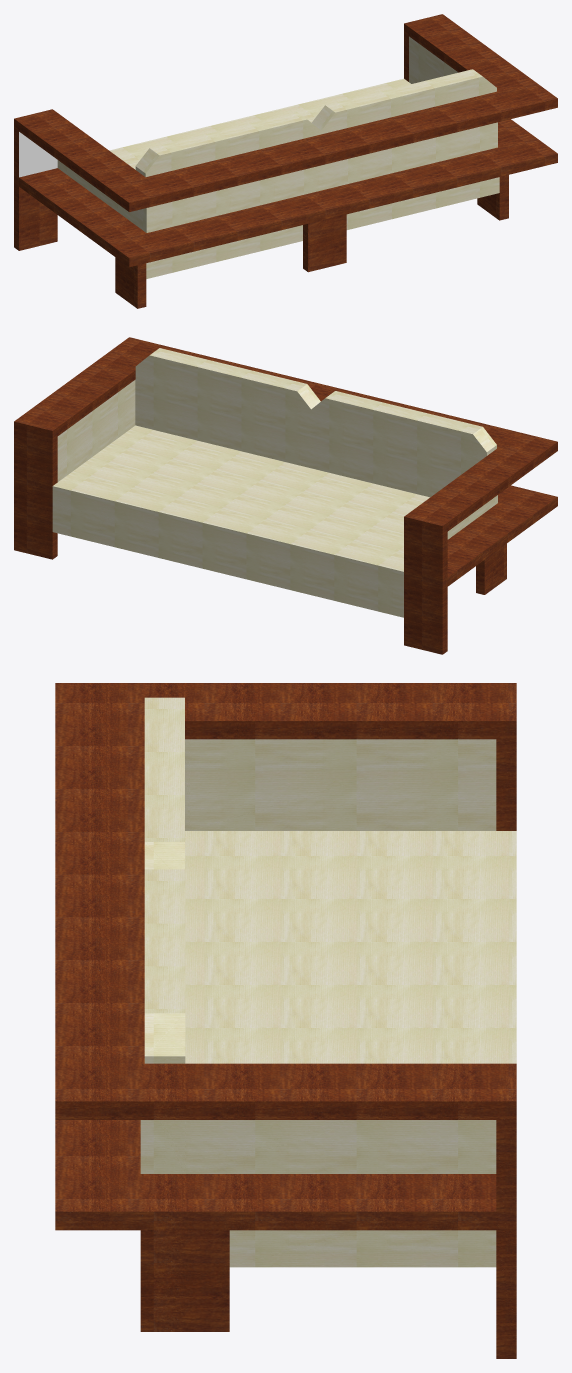
The model's file is sillon.obj.
The picture shows the model from 3 angles, top to bottom: view 1: azimuth 30°, elevation 25°; view 2: azimuth 150°, elevation 25°; view 3: azimuth 270°, elevation 25°; orthographic projection. The views are drawn at different scales.
Visible parts, largest first — view 1: Mesh1 Model; view 2: Mesh1 Model; view 3: Mesh1 Model.
Part boxes in pixels (box(x1,y1,x2,y2)): Mesh1 Model: box(14, 14, 557, 308); Mesh1 Model: box(14, 337, 557, 654); Mesh1 Model: box(55, 683, 516, 1358).
Size of the model in its own units: 2440 by 800 by 1137.
Materials: 3 (2 with a texture image).
